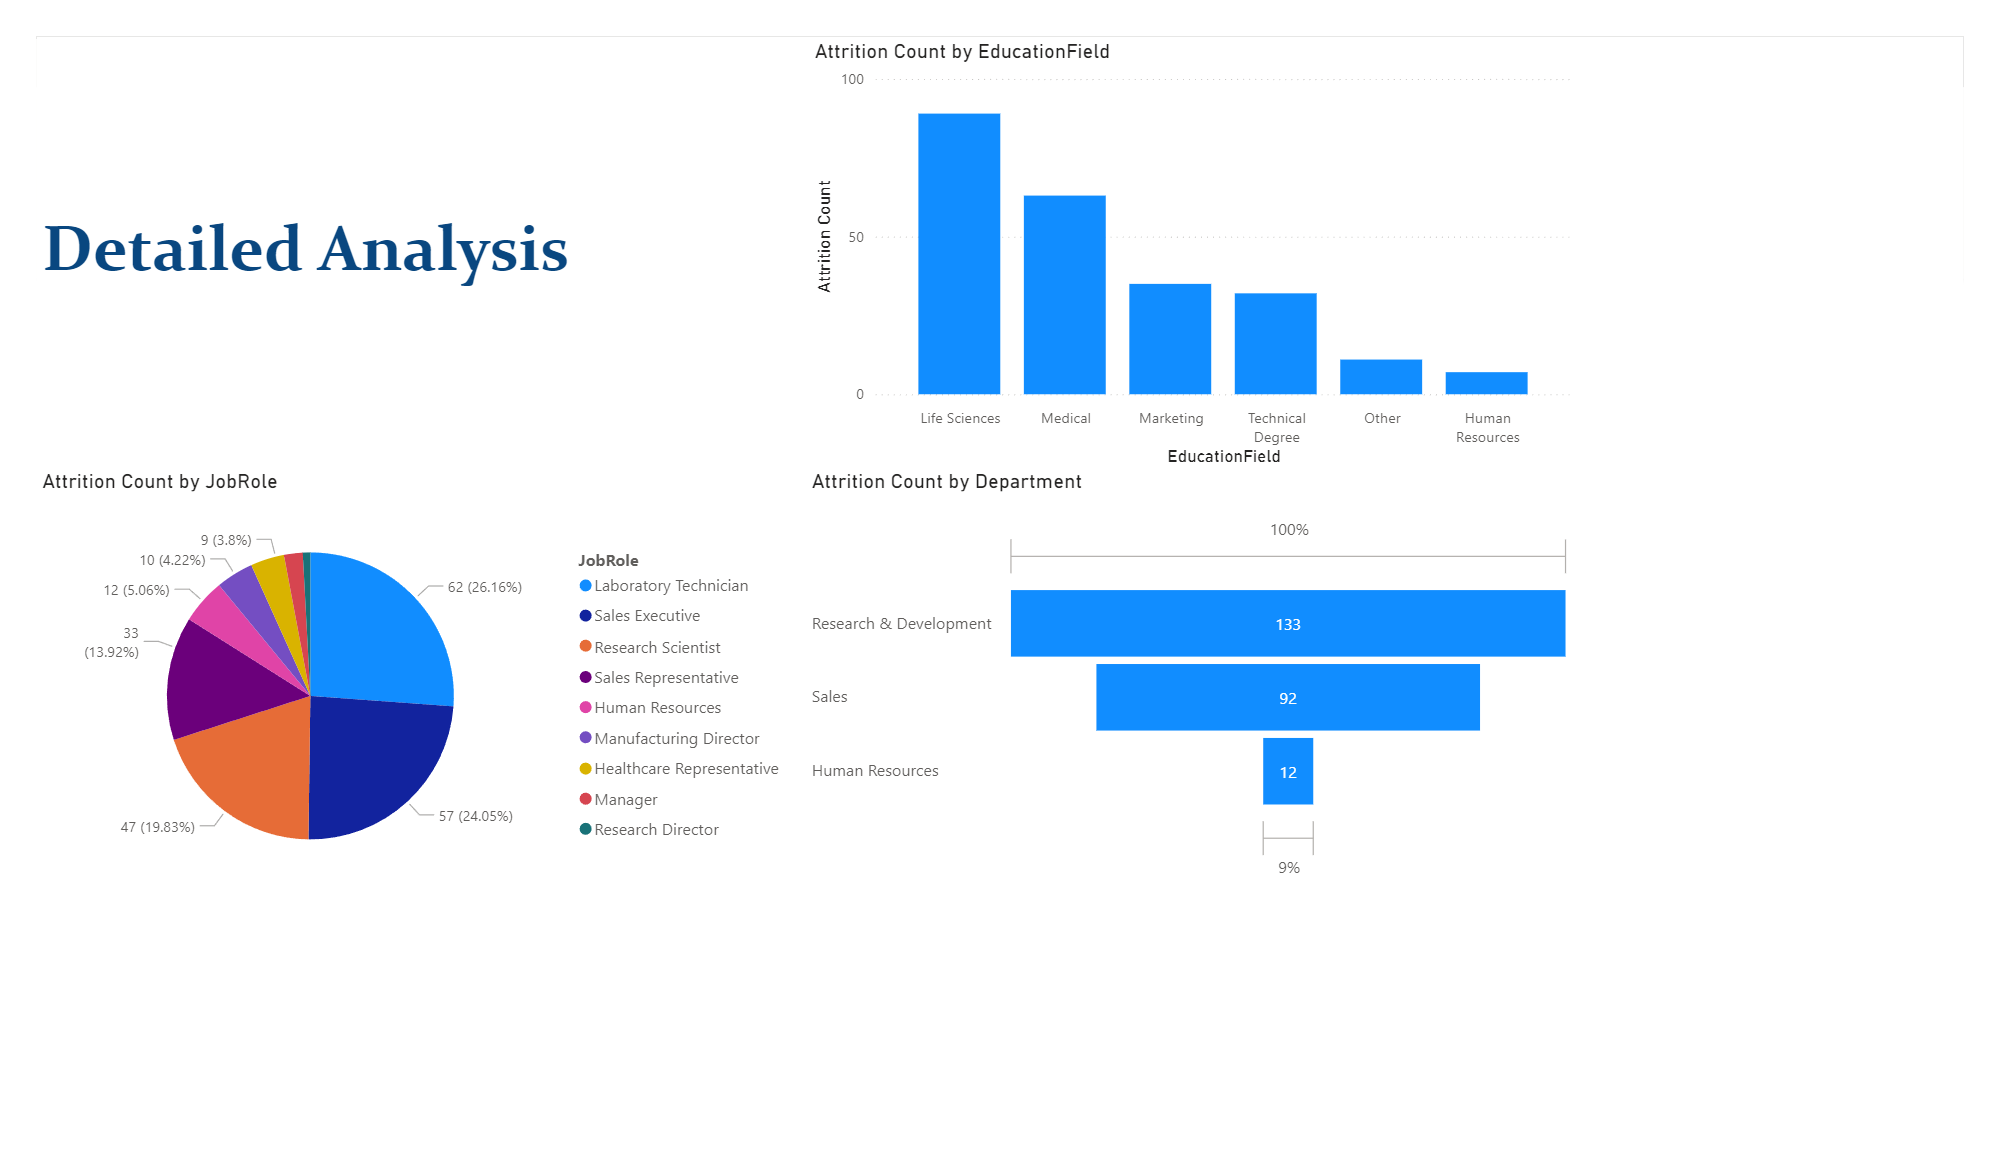

What the dashboard file says about the page in this screenshot:
{"tool":"powerbi","page":{"name":"Detailed","canvas":[1280,720],"ordinal":1},"visuals":[{"type":"lineStackedColumnComboChart","fields":{"Category":["employee_attrition employee_attrition.EducationField"],"Y":["employee_attrition employee_attrition.Attrition Count"]},"box":[640.6,1.9,638.7,359.1],"z":0},{"type":"pieChart","fields":{"Category":["employee_attrition employee_attrition.JobRole"],"Y":["employee_attrition employee_attrition.Attrition Count"]},"box":[0,359.1,631.2,359.1],"z":1000},{"type":"funnel","fields":{"Category":["employee_attrition employee_attrition.Department"],"Y":["employee_attrition employee_attrition.Attrition Count"]},"box":[638.7,359.1,640.6,360.9],"z":2000},{"type":"textbox","box":[0,1.9,631.2,357.2],"z":3000}]}

Visuals, with their boxes in screenshot pixels (x1, y1, x2, y2), scaled from the page's 1280x720 canvas onto the 2000x1156 screenshot:
lineStackedColumnComboChart - employee_attrition employee_attrition.EducationField x employee_attrition employee_attrition.Attrition Count: 1001:3:1999:580
pieChart - employee_attrition employee_attrition.JobRole x employee_attrition employee_attrition.Attrition Count: 0:577:986:1153
funnel - employee_attrition employee_attrition.Department x employee_attrition employee_attrition.Attrition Count: 998:577:1999:1155
textbox: 0:3:986:577
